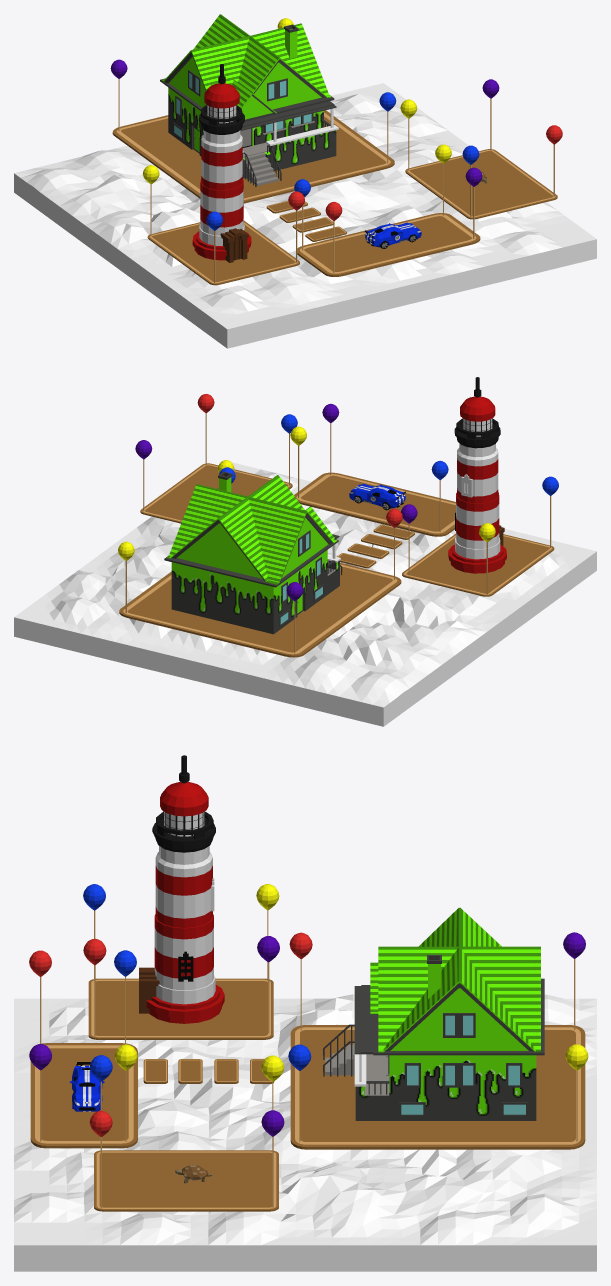
3 views of the same model, one above another, from view 1: azimuth 30°, elevation 25°; view 2: azimuth 150°, elevation 25°; view 3: azimuth 270°, elevation 25° (orthographic). The views are drawn at different scales.
Visible parts, largest first — view 1: Cube.013, Cube.754, OBJRANDOM_LIGHTHOUSE, VEHICLES_RACING_CAR; view 2: Cube.013, Cube.754, OBJRANDOM_LIGHTHOUSE, VEHICLES_RACING_CAR; view 3: Cube.013, Cube.754, OBJRANDOM_LIGHTHOUSE, VEHICLES_RACING_CAR.
Part boxes in pixels (box(x1,y1,x2,y2)): Cube.013: box(14, 18, 596, 348); Cube.754: box(160, 14, 338, 186); OBJRANDOM_LIGHTHOUSE: box(192, 64, 251, 262); VEHICLES_RACING_CAR: box(365, 222, 421, 248); Cube.013: box(14, 394, 596, 726); Cube.754: box(164, 471, 342, 634); OBJRANDOM_LIGHTHOUSE: box(448, 377, 506, 573); VEHICLES_RACING_CAR: box(349, 483, 405, 510); Cube.013: box(14, 884, 596, 1271); Cube.754: box(323, 907, 544, 1120); OBJRANDOM_LIGHTHOUSE: box(139, 755, 224, 1023); VEHICLES_RACING_CAR: box(69, 1062, 104, 1111).
Bounding box in the file's own units: 4000 × 2401 × 4000.
Materials: 43 (2 with a texture image).
